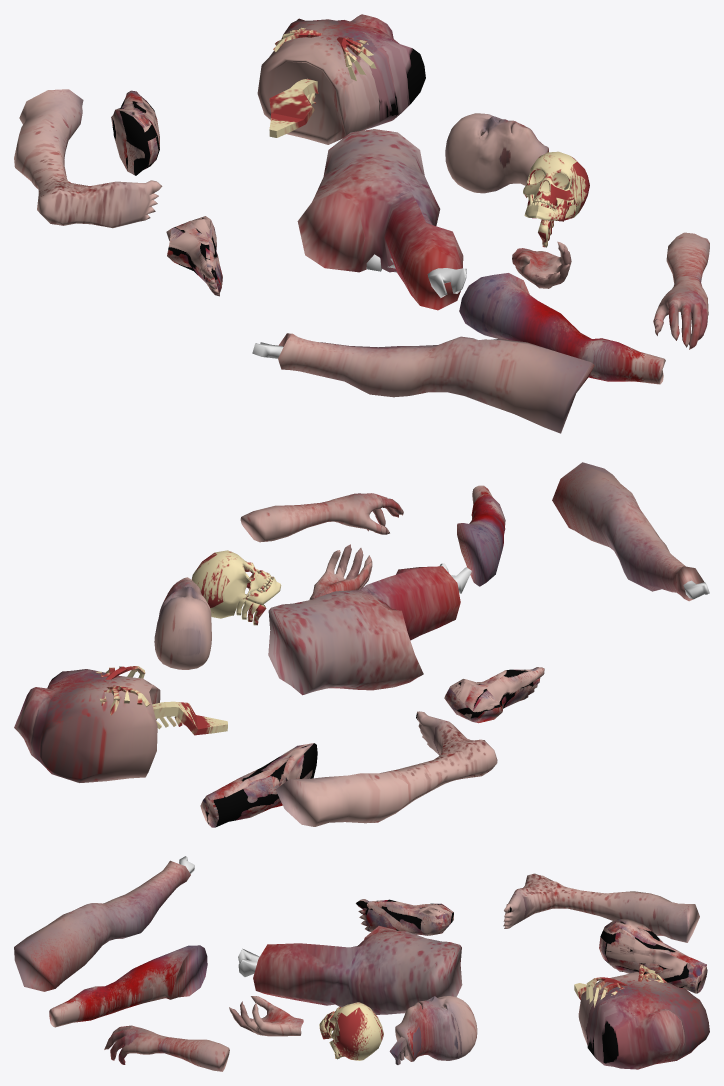
File: BodyParts.fbx
3 renders of one model, top to bottom at view 1: azimuth 30°, elevation 25°; view 2: azimuth 150°, elevation 25°; view 3: azimuth 270°, elevation 25°, orthographic. The views are drawn at different scales.
Parts seen in each view (by area): view 1: polySurface21, polySurface29, polySurface27, polySurface19, polySurface24, polySurface299, polySurface12, polySurface300, polySurface289, polySurface14, polySurface28, polySurface22 (+1 smaller); view 2: polySurface21, polySurface27, polySurface19, polySurface29, polySurface12, polySurface14, polySurface299, polySurface300, polySurface28, polySurface24, polySurface289, polySurface22; view 3: polySurface21, polySurface27, polySurface29, polySurface19, polySurface24, polySurface299, polySurface14, polySurface12, polySurface300, polySurface28, polySurface22, polySurface289 (+1 smaller).
Boxes of the visible parts, <box> form: polySurface21: <box>297,129,463,310</box>; polySurface29: <box>278,333,594,433</box>; polySurface27: <box>257,14,425,144</box>; polySurface19: <box>14,89,162,228</box>; polySurface24: <box>459,273,665,384</box>; polySurface299: <box>445,113,548,193</box>; polySurface12: <box>653,232,709,349</box>; polySurface300: <box>523,151,589,247</box>; polySurface289: <box>269,27,376,137</box>; polySurface14: <box>111,90,159,175</box>; polySurface28: <box>166,216,222,296</box>; polySurface22: <box>512,241,571,288</box>; polySurface21: <box>268,566,460,695</box>; polySurface27: <box>14,669,160,782</box>; polySurface19: <box>275,711,497,826</box>; polySurface29: <box>552,462,704,601</box>; polySurface12: <box>240,493,403,542</box>; polySurface14: <box>200,743,317,827</box>; polySurface299: <box>154,577,211,669</box>; polySurface300: <box>191,550,281,625</box>; polySurface28: <box>444,667,544,723</box>; polySurface24: <box>457,485,505,586</box>; polySurface289: <box>96,666,227,735</box>; polySurface22: <box>309,544,372,599</box>; polySurface21: <box>253,926,462,1014</box>; polySurface27: <box>578,971,709,1069</box>; polySurface29: <box>14,860,190,991</box>; polySurface19: <box>503,873,699,942</box>; polySurface24: <box>49,945,207,1027</box>; polySurface299: <box>389,996,477,1064</box>; polySurface14: <box>599,918,707,993</box>; polySurface12: <box>104,1025,229,1071</box>; polySurface300: <box>319,1002,383,1060</box>; polySurface28: <box>356,899,453,935</box>; polySurface22: <box>229,996,303,1036</box>; polySurface289: <box>574,965,666,1007</box>.
Bounding box in the file's own units: 148 × 29.6 × 234.
3 materials, 2 textured.
